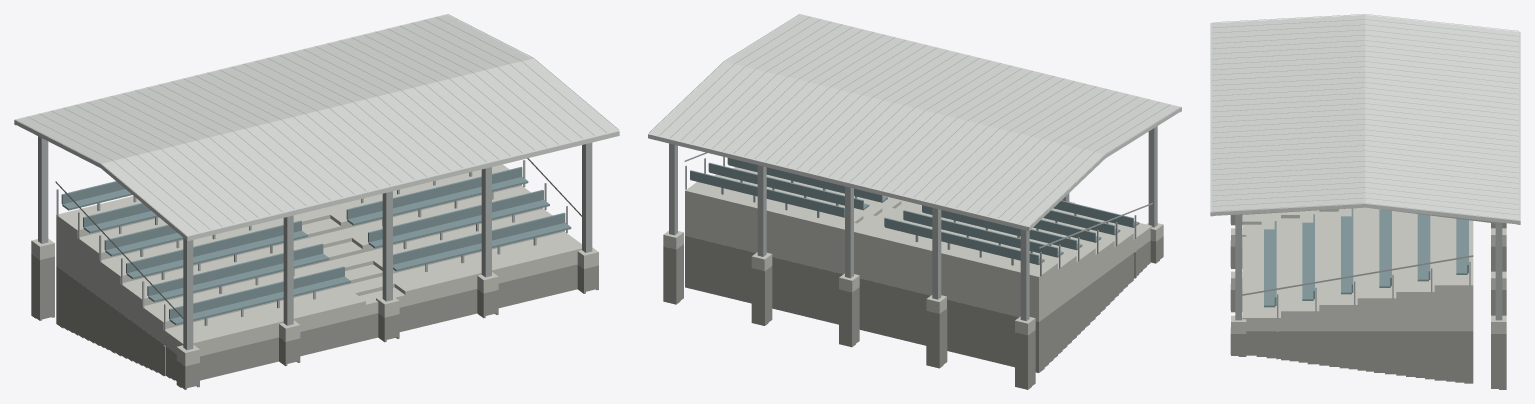
3 views of the same model, side by side, from view 1: azimuth 30°, elevation 25°; view 2: azimuth 150°, elevation 25°; view 3: azimuth 270°, elevation 25° (orthographic). The views are drawn at different scales.
Parts seen in each view (by area): view 1: stadium-stand__pitchedSheetRoof, stadium-stand__sixGrandstandTiers, stadium-stand__foundationRetainingSkirt_astra10, stadium-stand__benchBacks, stadium-stand__benchSeats, stadium-stand__standingRoofSeams, stadium-stand__roofColumns, stadium-stand__centralStairTreads, stadium-stand__closedRoofFascias, stadium-stand__columnFootings, stadium-stand__benchLegs, stadium-stand__roofEndFascias (+1 smaller); view 2: stadium-stand__pitchedSheetRoof, stadium-stand__foundationRetainingSkirt_astra10, stadium-stand__sixGrandstandTiers, stadium-stand__benchBacks, stadium-stand__standingRoofSeams, stadium-stand__roofColumns, stadium-stand__closedRoofFascias, stadium-stand__centralStairTreads, stadium-stand__columnFootings, stadium-stand__benchSeats, stadium-stand__roofEndFascias; view 3: stadium-stand__pitchedSheetRoof, stadium-stand__sixGrandstandTiers, stadium-stand__standingRoofSeams, stadium-stand__foundationRetainingSkirt_astra10, stadium-stand__benchSeats, stadium-stand__centralStairTreads, stadium-stand__roofColumns, stadium-stand__roofEndFascias, stadium-stand__columnFootings, stadium-stand__benchBacks, stadium-stand__closedRoofFascias, stadium-stand__sideHandrails (+1 smaller).
Boxes of the visible parts, x1,y1,x2,y2 form: stadium-stand__pitchedSheetRoof: [16, 15, 618, 235]; stadium-stand__sixGrandstandTiers: [56, 164, 581, 356]; stadium-stand__foundationRetainingSkirt_astra10: [31, 254, 598, 389]; stadium-stand__benchBacks: [61, 166, 565, 318]; stadium-stand__benchSeats: [62, 177, 571, 325]; stadium-stand__standingRoofSeams: [15, 14, 618, 235]; stadium-stand__roofColumns: [38, 136, 592, 350]; stadium-stand__centralStairTreads: [282, 208, 405, 315]; stadium-stand__closedRoofFascias: [14, 14, 619, 241]; stadium-stand__columnFootings: [31, 238, 598, 366]; stadium-stand__benchLegs: [97, 172, 536, 325]; stadium-stand__roofEndFascias: [15, 120, 186, 239]; stadium-stand__pitchedSheetRoof: [649, 14, 1179, 226]; stadium-stand__foundationRetainingSkirt_astra10: [663, 236, 1163, 389]; stadium-stand__sixGrandstandTiers: [685, 167, 1152, 321]; stadium-stand__benchBacks: [690, 158, 1133, 264]; stadium-stand__standingRoofSeams: [649, 14, 1180, 226]; stadium-stand__roofColumns: [669, 126, 1157, 321]; stadium-stand__closedRoofFascias: [648, 14, 1181, 231]; stadium-stand__centralStairTreads: [844, 202, 928, 282]; stadium-stand__columnFootings: [663, 201, 1163, 335]; stadium-stand__benchSeats: [690, 164, 1139, 264]; stadium-stand__roofEndFascias: [1030, 108, 1180, 229]; stadium-stand__pitchedSheetRoof: [1212, 14, 1518, 220]; stadium-stand__sixGrandstandTiers: [1242, 208, 1473, 331]; stadium-stand__standingRoofSeams: [1212, 14, 1518, 220]; stadium-stand__foundationRetainingSkirt_astra10: [1230, 214, 1506, 389]; stadium-stand__benchSeats: [1264, 209, 1467, 307]; stadium-stand__centralStairTreads: [1242, 207, 1407, 238]; stadium-stand__roofColumns: [1235, 214, 1502, 320]; stadium-stand__roofEndFascias: [1212, 204, 1518, 224]; stadium-stand__columnFootings: [1231, 228, 1506, 333]; stadium-stand__benchBacks: [1274, 208, 1468, 305]; stadium-stand__closedRoofFascias: [1210, 23, 1520, 224]; stadium-stand__sideHandrails: [1242, 255, 1473, 295].
Bounding box in the file's own units: 17.49 × 8.21 × 12.1.
